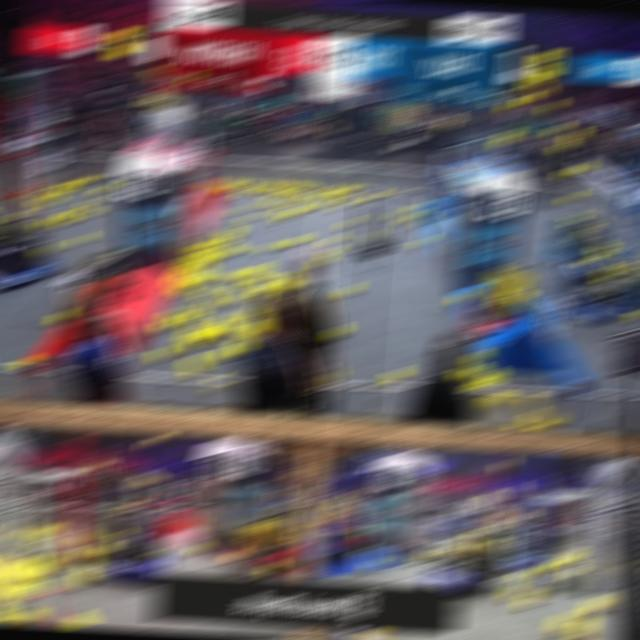ball_airborne: (565, 130, 585, 143), (507, 486, 525, 499), (516, 512, 534, 524), (497, 461, 515, 473), (555, 143, 572, 154), (571, 164, 589, 174), (524, 77, 542, 86), (141, 476, 159, 485), (544, 103, 560, 113), (502, 100, 518, 110), (495, 138, 512, 147), (532, 89, 549, 98), (147, 67, 164, 76), (550, 125, 566, 134), (518, 96, 536, 104), (530, 80, 548, 88), (559, 168, 577, 175), (564, 193, 580, 200), (140, 94, 156, 101), (500, 130, 516, 136), (154, 435, 169, 441), (143, 439, 157, 445), (150, 106, 164, 111), (149, 434, 163, 439), (139, 473, 153, 476)
ball_ground: (570, 620, 594, 639), (584, 598, 604, 616), (73, 573, 94, 589), (152, 348, 172, 362), (386, 368, 406, 382), (503, 584, 522, 598), (214, 348, 233, 361), (262, 563, 281, 576), (38, 566, 58, 578), (26, 568, 46, 580), (452, 366, 472, 378), (187, 364, 206, 376), (16, 358, 38, 368), (184, 339, 204, 350), (241, 324, 259, 336), (220, 326, 238, 338), (53, 311, 72, 322), (156, 320, 175, 331), (62, 550, 79, 562), (172, 314, 192, 324), (466, 352, 484, 363), (232, 347, 250, 358), (229, 295, 247, 306), (163, 310, 182, 320), (465, 366, 484, 376), (190, 545, 208, 555), (202, 300, 220, 310), (80, 560, 98, 570), (340, 286, 358, 296), (364, 560, 382, 570), (242, 310, 260, 320), (184, 354, 202, 364), (212, 314, 230, 324), (260, 278, 278, 288), (566, 568, 584, 578), (528, 570, 546, 580), (454, 293, 471, 303), (197, 288, 214, 298), (223, 284, 240, 294), (236, 270, 253, 280), (288, 237, 306, 246), (185, 311, 203, 320), (314, 256, 332, 265), (514, 570, 530, 580), (171, 283, 187, 293), (73, 236, 90, 245), (208, 383, 225, 392), (221, 271, 238, 280), (222, 230, 239, 239), (243, 273, 260, 282), (252, 285, 268, 294), (75, 550, 91, 559), (276, 212, 294, 220), (322, 248, 339, 256), (44, 216, 61, 224), (276, 286, 293, 294), (177, 286, 194, 294), (223, 247, 240, 255), (273, 280, 290, 288), (215, 184, 232, 192), (218, 250, 234, 258), (58, 220, 74, 228), (283, 240, 299, 248), (199, 258, 215, 266), (250, 274, 266, 282), (280, 272, 296, 280), (283, 280, 299, 288), (342, 218, 358, 226), (388, 210, 406, 217), (82, 210, 97, 218), (417, 240, 432, 248), (233, 206, 248, 214), (400, 215, 415, 223), (70, 207, 86, 214), (218, 229, 234, 236), (60, 209, 76, 216), (83, 200, 98, 207), (243, 214, 258, 221), (364, 193, 379, 200), (413, 555, 428, 562), (183, 322, 200, 328), (630, 308, 640, 318), (40, 543, 54, 550), (342, 193, 356, 200), (268, 198, 284, 204), (44, 200, 60, 206), (261, 242, 277, 248), (274, 198, 290, 204), (237, 190, 253, 196), (284, 208, 300, 214), (100, 182, 116, 188), (412, 212, 427, 218), (290, 208, 305, 214), (95, 189, 112, 194), (318, 202, 332, 208), (418, 218, 432, 224), (324, 200, 338, 206), (285, 201, 301, 206), (304, 191, 320, 196)
goal: (124, 114, 192, 150), (456, 139, 526, 168)
robot_blue: (84, 512, 170, 585), (421, 524, 506, 588), (558, 259, 640, 324), (0, 215, 58, 297), (545, 211, 602, 264), (501, 534, 536, 569)
robot_red: (238, 503, 304, 575), (59, 249, 127, 303), (468, 274, 518, 339), (316, 500, 368, 558)
